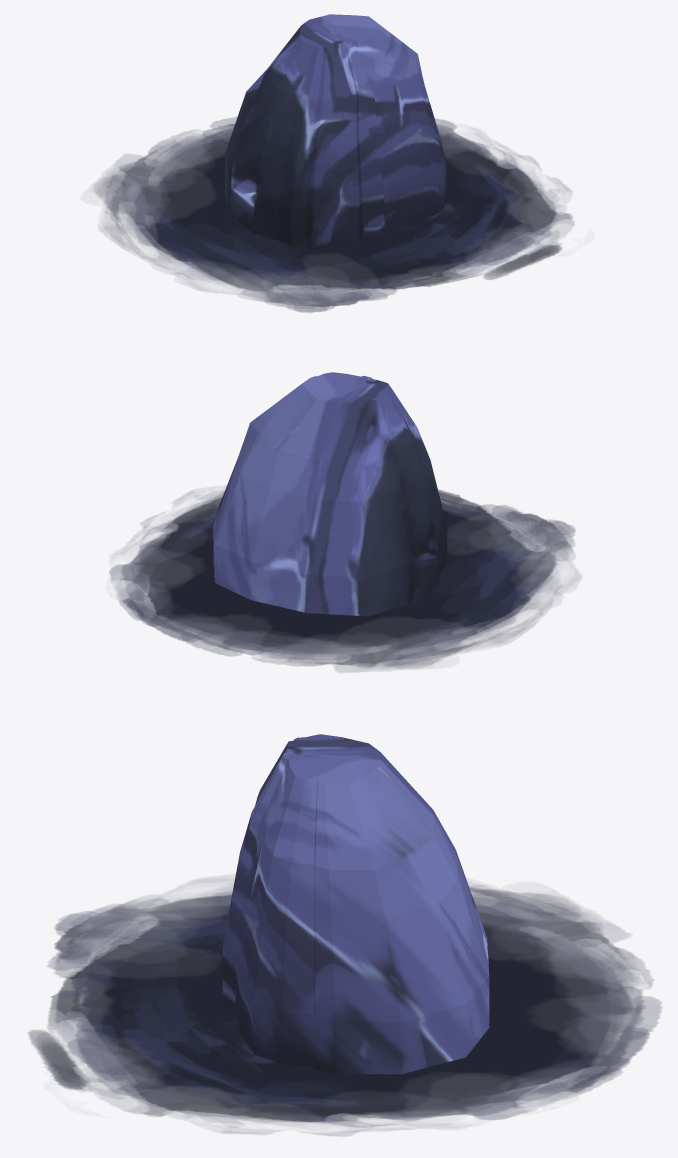
The model's file is rock.glb.
3 views of the same model, one above another, from view 1: azimuth 30°, elevation 25°; view 2: azimuth 150°, elevation 25°; view 3: azimuth 270°, elevation 25° (orthographic). The views are drawn at different scales.
Visible parts, largest first — view 1: rock; view 2: rock; view 3: rock.
Boxes of the visible parts, x1,y1,x2,y2 form: rock: [93, 14, 573, 312]; rock: [109, 372, 580, 672]; rock: [28, 734, 661, 1135].
Size of the model in its own units: 6 by 2.5 by 6.
Materials: 1 (1 with a texture image).
